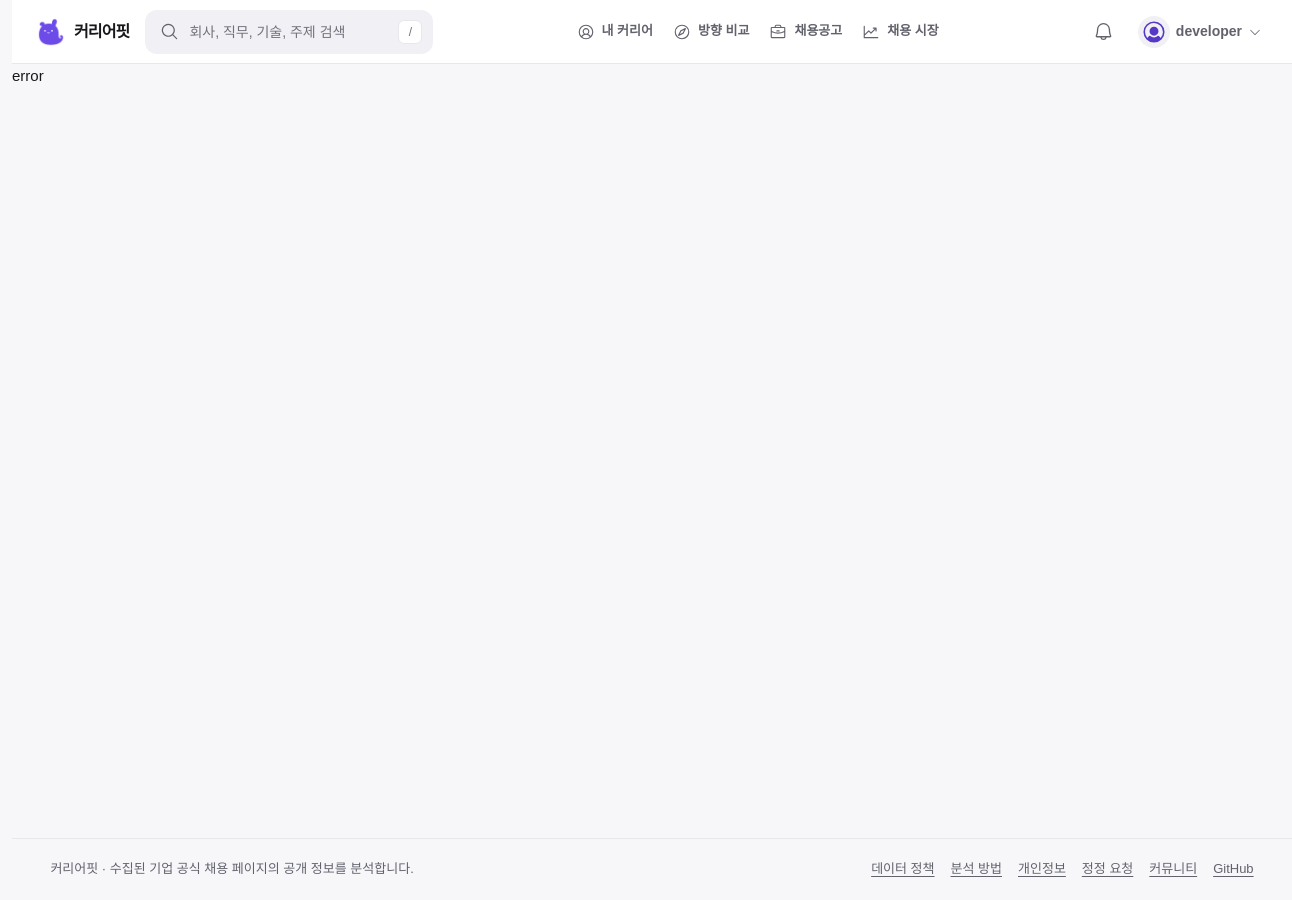
AppShell › shares the error account state without implementation terms
The image size is (1292, 900).
Expected: the text named "계정 저장 상태" reads "error", [12,67,44,84]
What coordinates should you click on to do the following:
click the button with aria-label "사용자 메뉴 열기"
I would click on:
 (1200, 32)
Its box is [1132,10,1268,54].
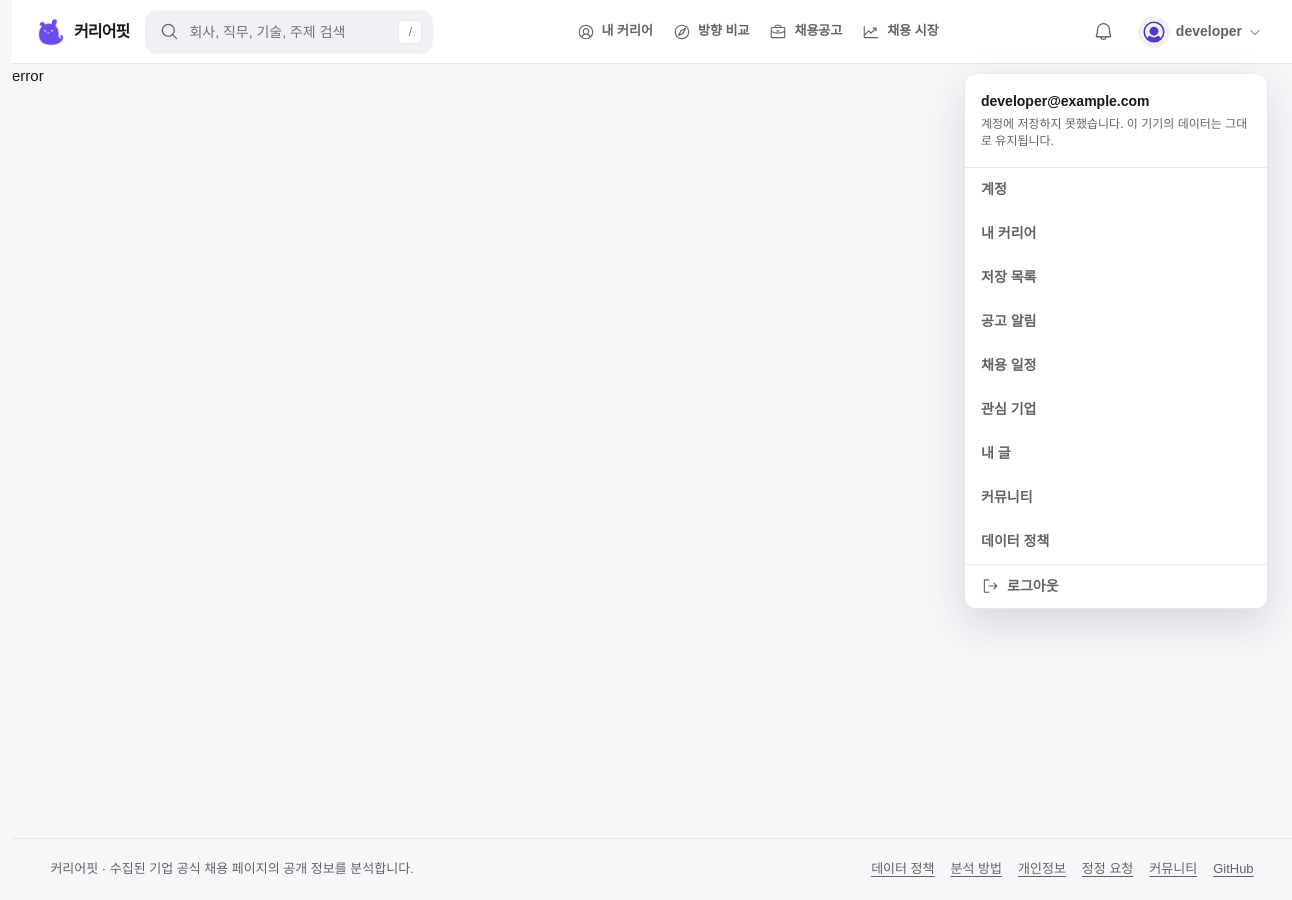
Expected: the text "계정에 저장하지 못했습니다. 이 기기의 데이터는 그대로 유지됩니다." is shown, [981,116,1251,151]
